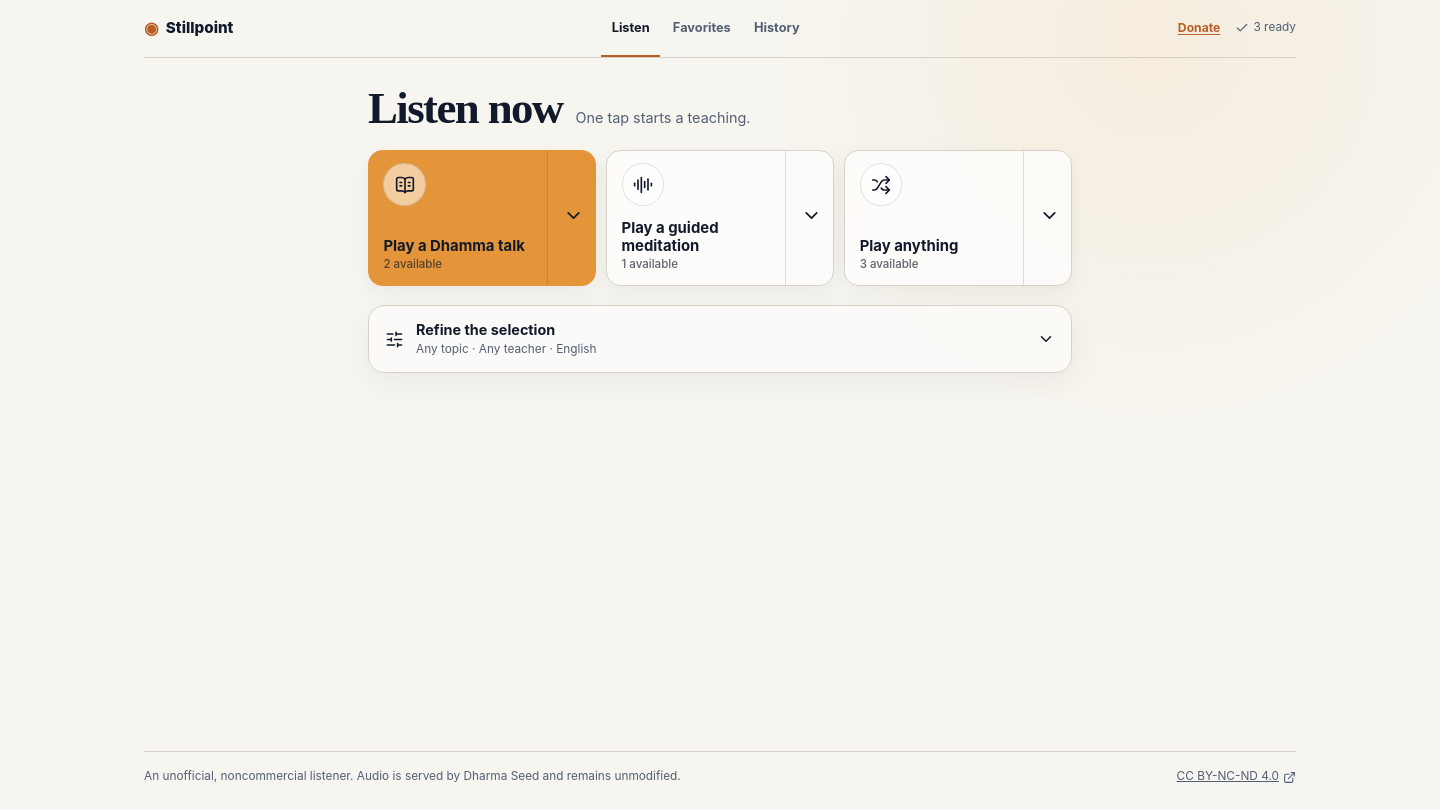
Test: ListenerApp › starts a random Dhamma talk with one tap and keeps the card aligned with audio
The width and height of the screenshot is (1440, 810).
Click the button "Play a Dhamma talk 2 available". click: (458, 218)
box: [369,151,547,285]
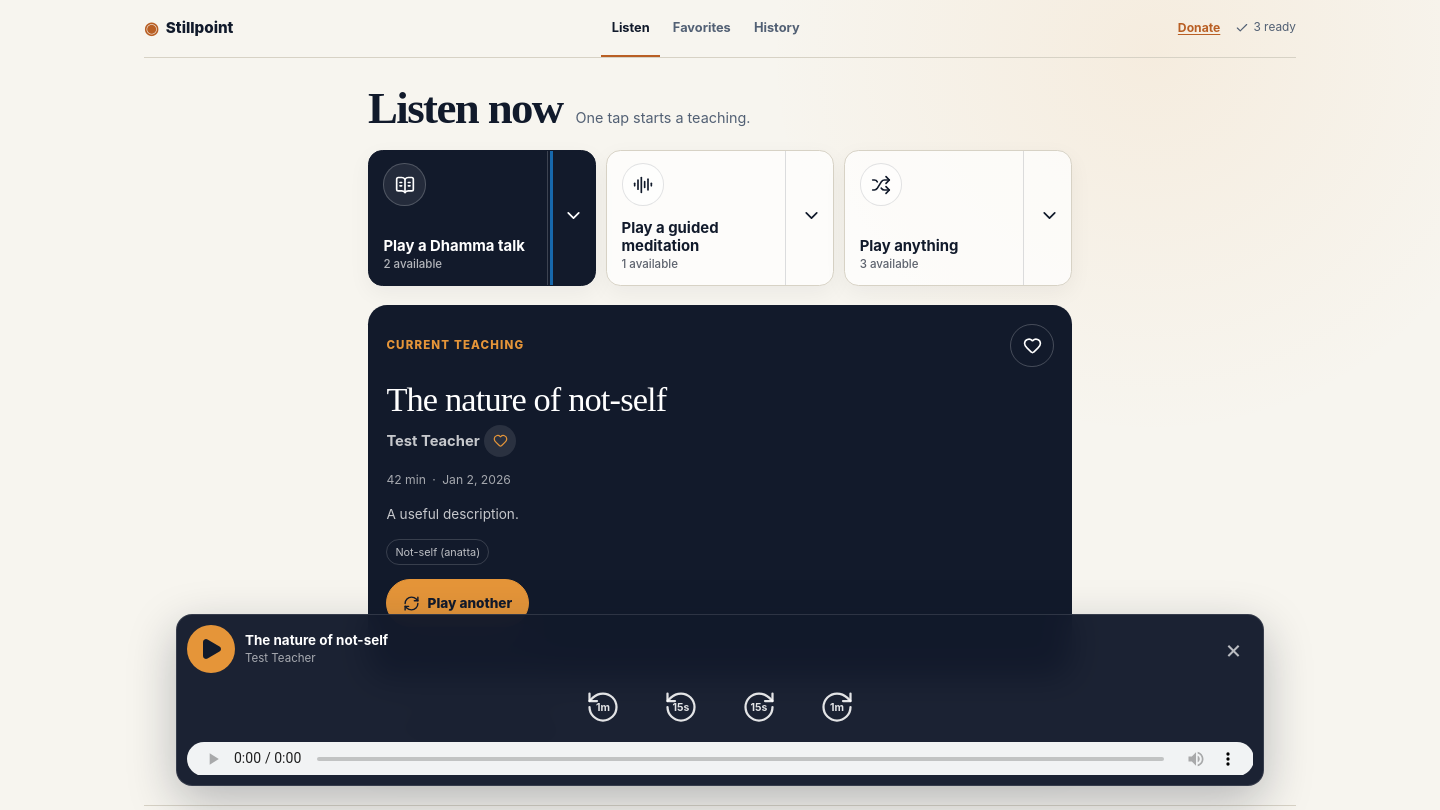
Check: the element "The nature of not-self" is shown, box [368,305,1072,678]
Check: the text "Test Teacher" below "Current teaching" is shown, box [386,432,480,450]
Click the button "Play another". click: (458, 603)
box: [386,579,529,627]
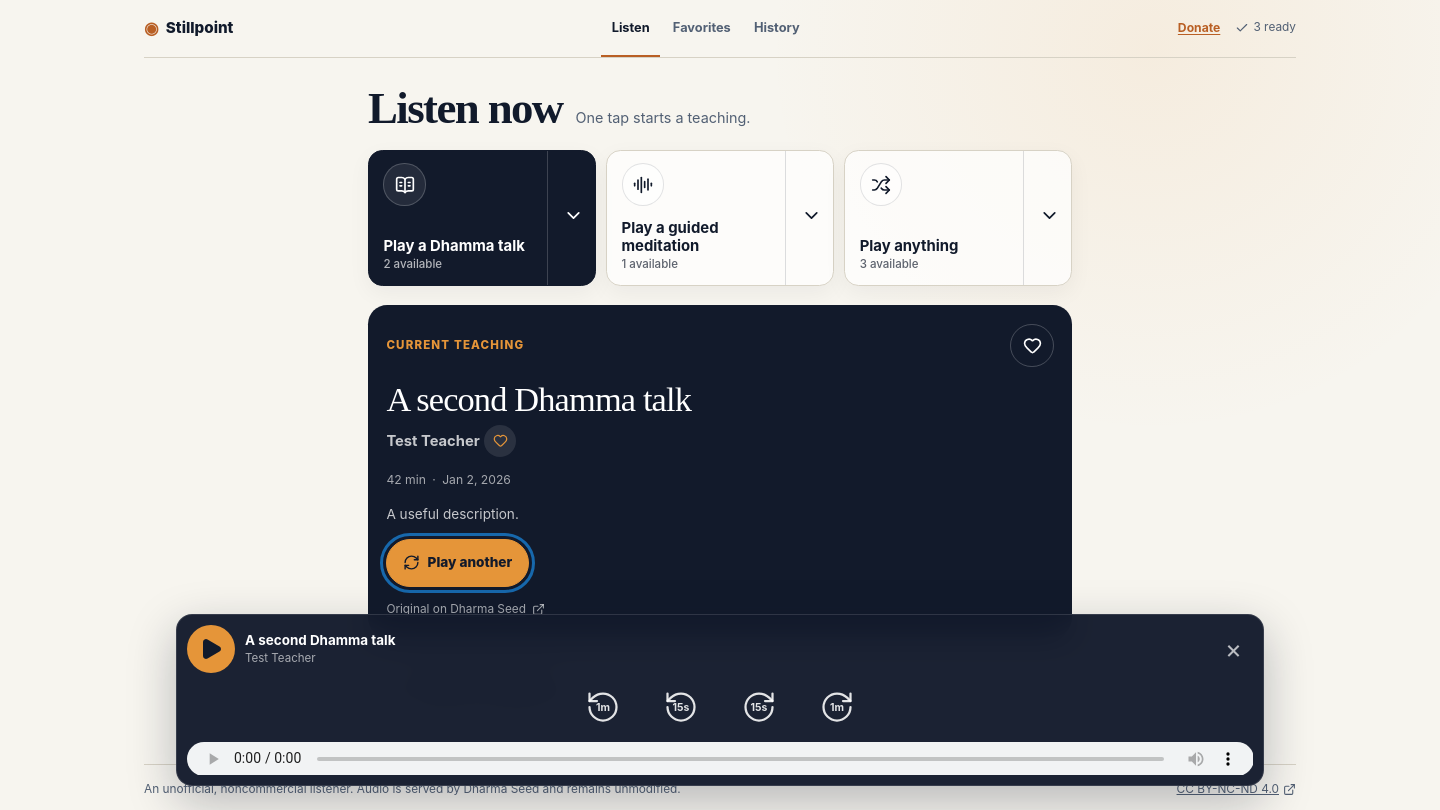
Check: the heading "A second Dhamma talk" is shown, box [386,380,691,418]
